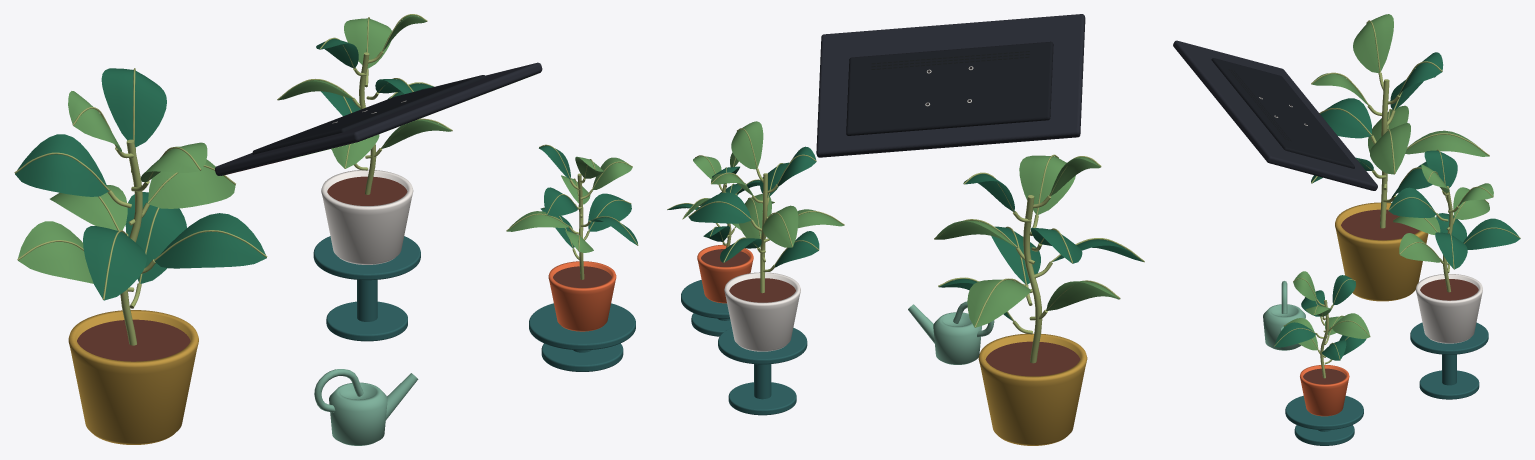
The model's file is conservatory.glb.
3 renders of one model, left to right at view 1: azimuth 30°, elevation 25°; view 2: azimuth 150°, elevation 25°; view 3: azimuth 270°, elevation 25°, orthographic. The views are drawn at different scales.
Parts seen in each view (by area): view 1: Stoneware planter, Stoneware planter.001, TV / graphite frame.005, Glazed rubber leaf.002, Glazed rubber leaf.006, Potting soil, Glazed rubber leaf.008, Glazed rubber leaf.004, Enamel can, Glazed rubber leaf.001, Stoneware planter.002, Plant saucer.001 (+24 smaller); view 2: TV / graphite frame.005, TV / rear enclosure.005, Stoneware planter, Stoneware planter.001, Potting soil, Enamel can, Glazed rubber leaf.003, Glazed rubber leaf.007, Plant saucer, Round foot, Stoneware planter.002, Glazed rubber leaf.014 (+22 smaller); view 3: TV / graphite frame.005, TV / rear enclosure.005, Stoneware planter, Stoneware planter.001, Glazed rubber leaf.009, Stoneware planter.002, Plant saucer.001, Potting soil, Glazed rubber leaf.004, Glazed rubber leaf.005, Plant saucer, Round foot (+26 smaller).
Boxes of the visible parts, x1=… form: Stoneware planter: x1=68, y1=310, x2=198, y2=444; Stoneware planter.001: x1=321, y1=169, x2=413, y2=264; TV / graphite frame.005: x1=215, y1=62, x2=542, y2=175; Glazed rubber leaf.002: x1=154, y1=213, x2=266, y2=268; Glazed rubber leaf.006: x1=15, y1=134, x2=108, y2=196; Potting soil: x1=77, y1=319, x2=190, y2=361; Glazed rubber leaf.008: x1=101, y1=68, x2=166, y2=147; Glazed rubber leaf.004: x1=83, y1=226, x2=146, y2=300; Enamel can: x1=329, y1=382, x2=387, y2=445; Glazed rubber leaf.001: x1=17, y1=221, x2=93, y2=283; Stoneware planter.002: x1=548, y1=261, x2=616, y2=331; Plant saucer.001: x1=529, y1=303, x2=635, y2=350; TV / graphite frame.005: x1=816, y1=14, x2=1085, y2=157; TV / rear enclosure.005: x1=846, y1=41, x2=1053, y2=135; Stoneware planter: x1=978, y1=333, x2=1087, y2=445; Stoneware planter.001: x1=724, y1=272, x2=800, y2=351; Potting soil: x1=985, y1=341, x2=1080, y2=376; Enamel can: x1=933, y1=312, x2=981, y2=364; Glazed rubber leaf.003: x1=967, y1=279, x2=1030, y2=327; Glazed rubber leaf.007: x1=1019, y1=155, x2=1075, y2=214; Plant saucer: x1=718, y1=327, x2=807, y2=364; Round foot: x1=728, y1=382, x2=796, y2=415; Stoneware planter.002: x1=697, y1=244, x2=753, y2=303; Glazed rubber leaf.014: x1=689, y1=192, x2=751, y2=223; TV / graphite frame.005: x1=1173, y1=40, x2=1377, y2=190; TV / rear enclosure.005: x1=1211, y1=58, x2=1354, y2=168; Stoneware planter: x1=1335, y1=202, x2=1428, y2=301; Stoneware planter.001: x1=1415, y1=274, x2=1482, y2=343; Glazed rubber leaf.009: x1=1353, y1=14, x2=1393, y2=72; Stoneware planter.002: x1=1300, y1=365, x2=1349, y2=416; Plant saucer.001: x1=1285, y1=395, x2=1363, y2=429; Potting soil: x1=1341, y1=209, x2=1419, y2=240; Glazed rubber leaf.004: x1=1320, y1=98, x2=1371, y2=138; Glazed rubber leaf.005: x1=1370, y1=123, x2=1410, y2=174; Plant saucer: x1=1410, y1=322, x2=1488, y2=354; Round foot: x1=1419, y1=370, x2=1479, y2=399.
Bounding box in the file's own units: 10.48 × 6.52 × 7.44.
17 materials, 2 textured.
